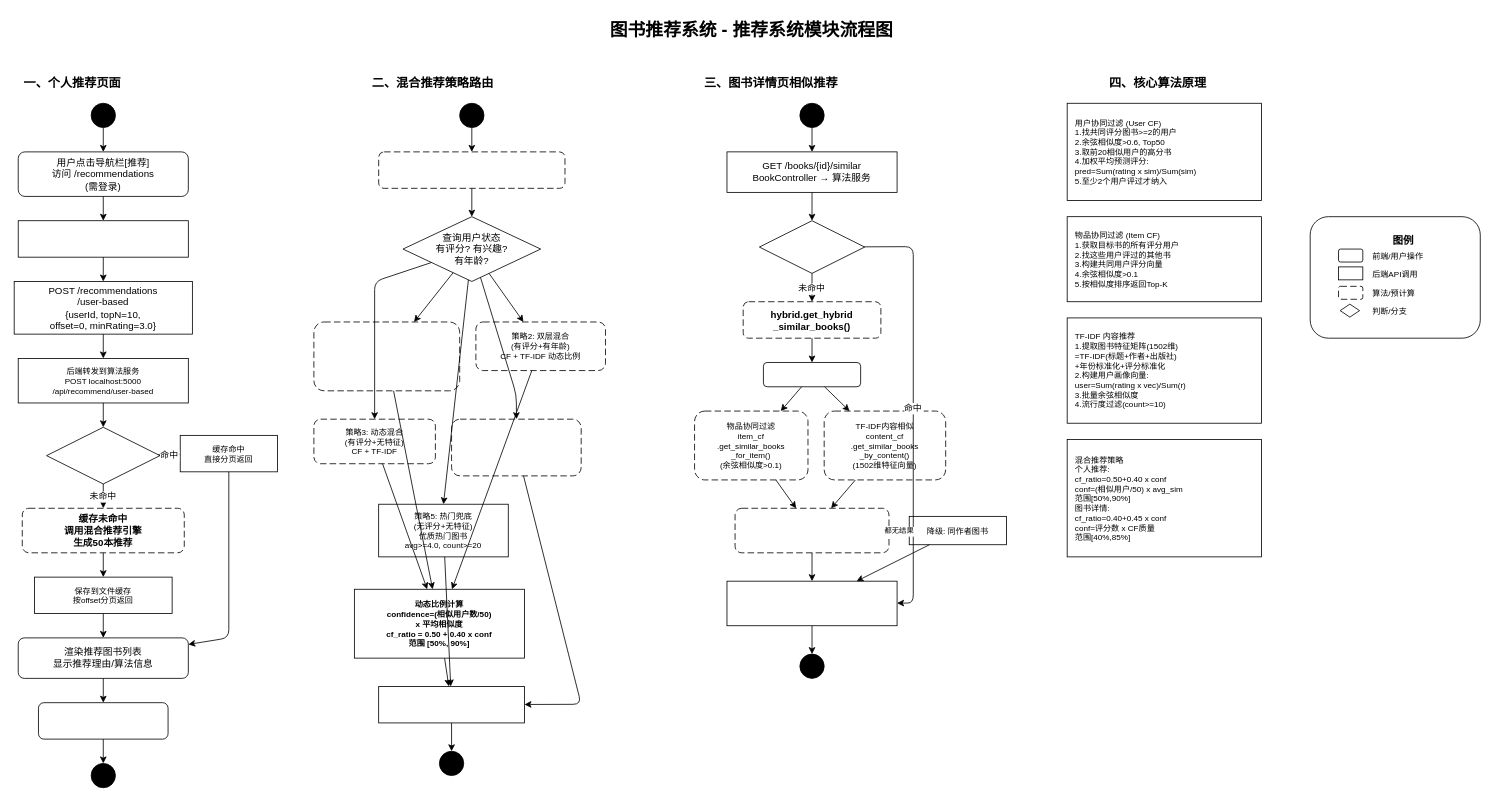
The diagram is 1494 pixels wide and 802 high, and some of its shapes have lost their labels. The centre of each missing label's shape, as x and y in pixels:
"[换一批] offset+topN 循环分页浏览" goes at point 103,720.
"GET /recommendations/health 检查算法服务可用性" goes at point 102,238.
"hybrid.get_hybrid_user _recommendations()" goes at point 471,169.
"动态比例计算 cf_ratio=0.40+0.45 x conf 范围[40%,85%]" goes at point 811,530.
"并行获取" goes at point 812,374.
"检查内存缓存 (预生成24本)" goes at point 812,246.
"检查文件缓存 (1小时过期)" goes at point 103,455.
"混合去重 存入内存缓存24本 按offset分页返回6本" goes at point 811,603.
"混合结果去重排序 返回Top-N推荐" goes at point 451,704.
"策略1: 三层混合 (有评分+有兴趣) CF + TF-IDF + 兴趣加权 similarity+30% predicted_rating+15%" goes at point 386,356.
"策略4: 特征推荐 (无评分+有特征) 兴趣优先 -> 年龄辅助 -> 质量兜底" goes at point 516,447.
